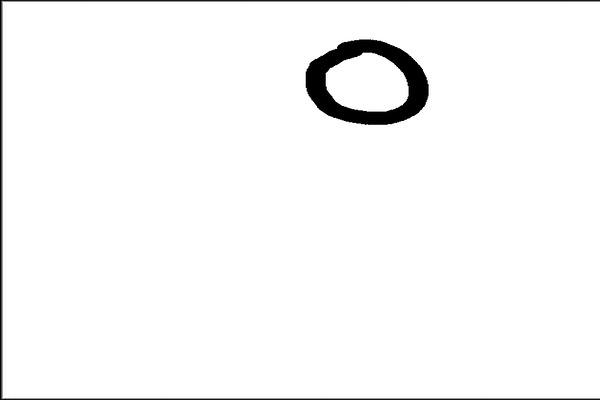O: (299, 31, 434, 133)
